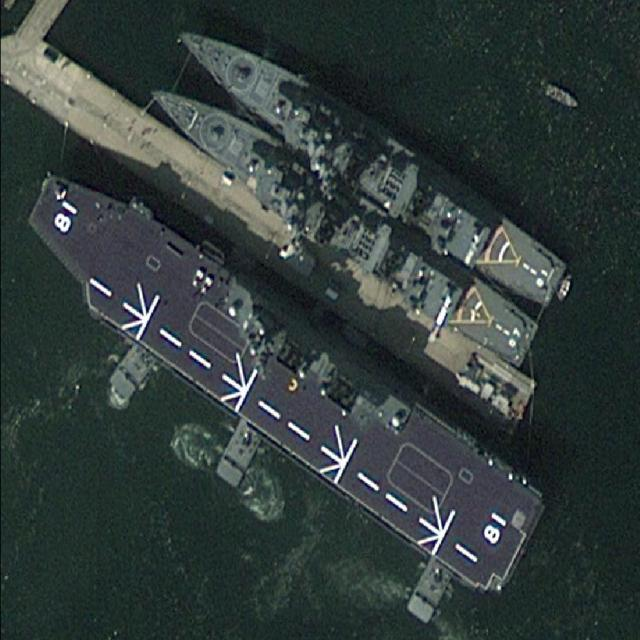Destroyer: (2, 147, 561, 601), (159, 1, 583, 322), (130, 63, 551, 379)
Other Ship: (544, 83, 582, 112)
